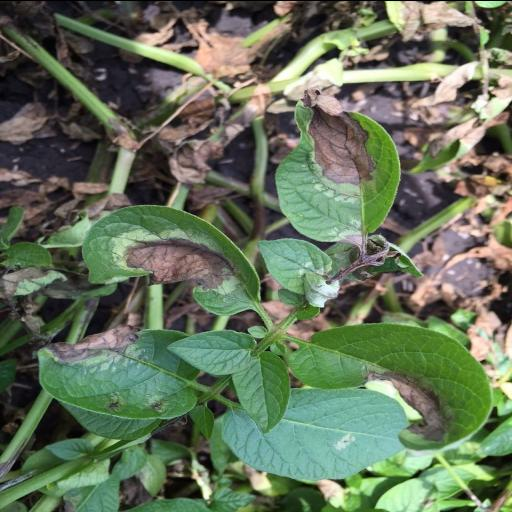disease_tomato: (285, 320, 498, 452), (82, 201, 266, 319), (274, 89, 404, 243), (26, 325, 216, 416)
